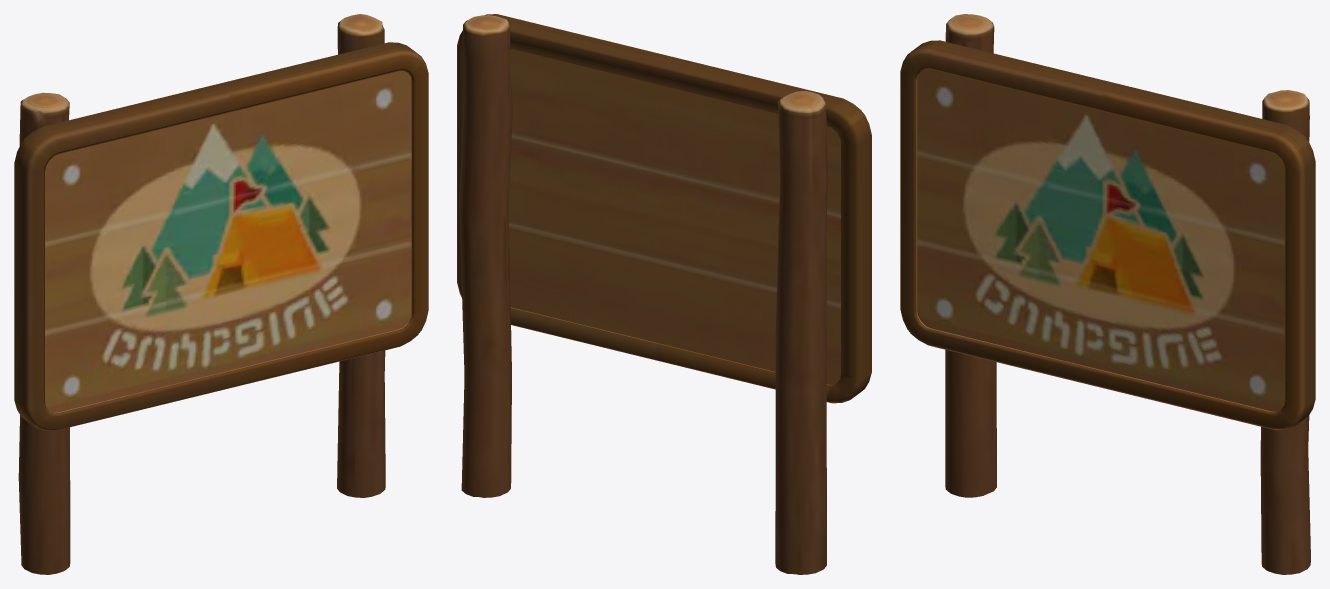
Rendered from campsite-sign.glb.
The picture shows the model from 3 angles, left to right: view 1: azimuth 30°, elevation 25°; view 2: azimuth 150°, elevation 25°; view 3: azimuth 330°, elevation 25°; orthographic projection.
Size of the model in its own units: 17.1 by 18.91 by 3.
1 material, 1 textured.
